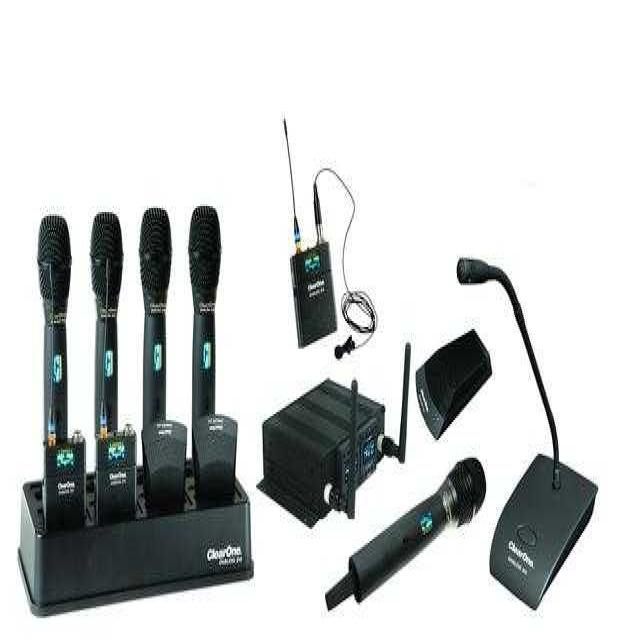microphone: (326, 452, 486, 610), (189, 207, 235, 506), (38, 211, 72, 460), (139, 205, 174, 442), (90, 209, 124, 451), (457, 255, 496, 286), (334, 336, 354, 360)
